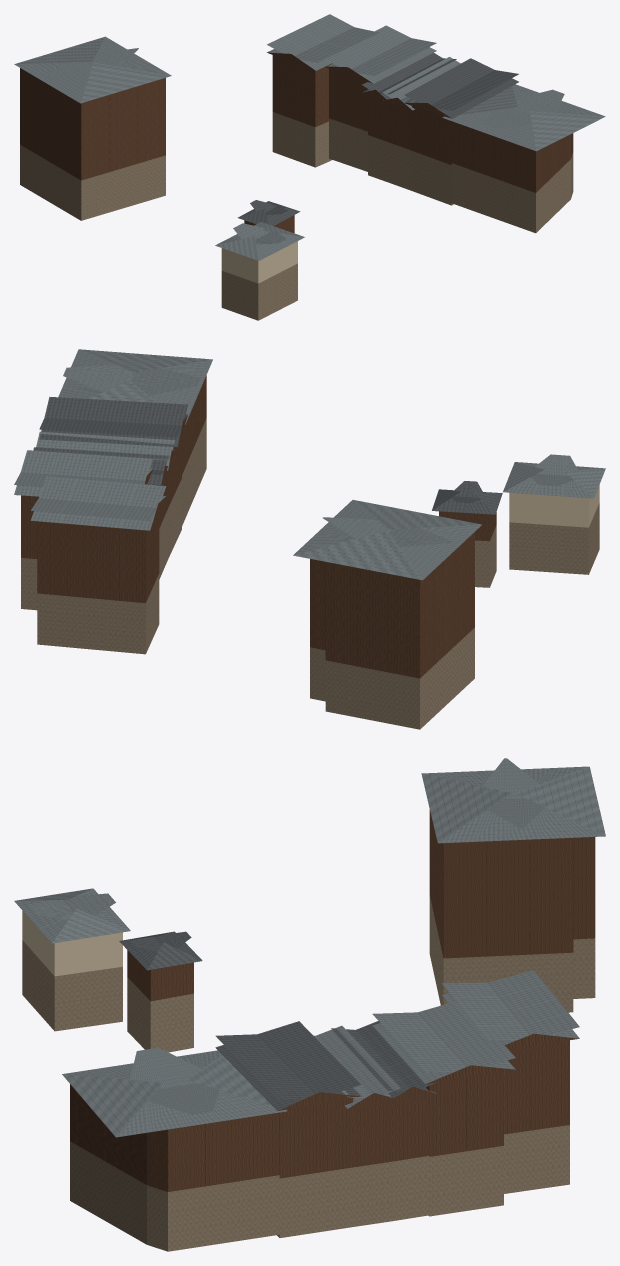
The model's file is bld_c11_19_430.gltf.
3 renders of one model, top to bottom at view 1: azimuth 30°, elevation 25°; view 2: azimuth 150°, elevation 25°; view 3: azimuth 270°, elevation 25°, orthographic. The views are drawn at different scales.
Visible parts, largest first — view 1: bld_c11_19_430; view 2: bld_c11_19_430; view 3: bld_c11_19_430.
Boxes of the visible parts, box(x1,y1,x2,y2) form: bld_c11_19_430: box(14, 14, 605, 320); bld_c11_19_430: box(14, 349, 605, 729); bld_c11_19_430: box(14, 758, 605, 1251).
Size of the model in its own units: 57.15 by 17.6 by 45.91.
6 materials, 6 textured.
